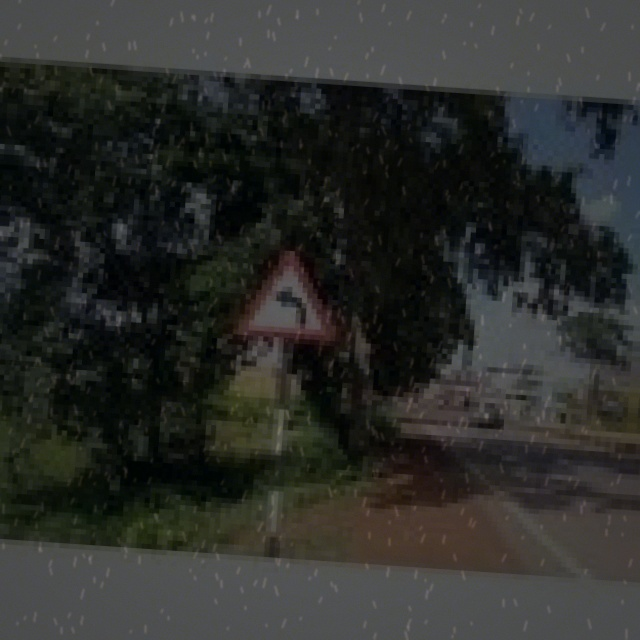Left_Hand_Curve: (235, 244, 341, 349)
